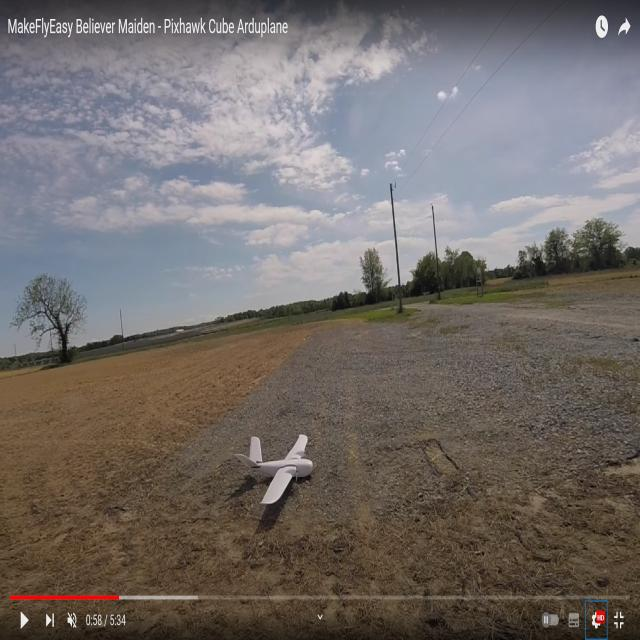iha: (276, 466, 280, 484)
